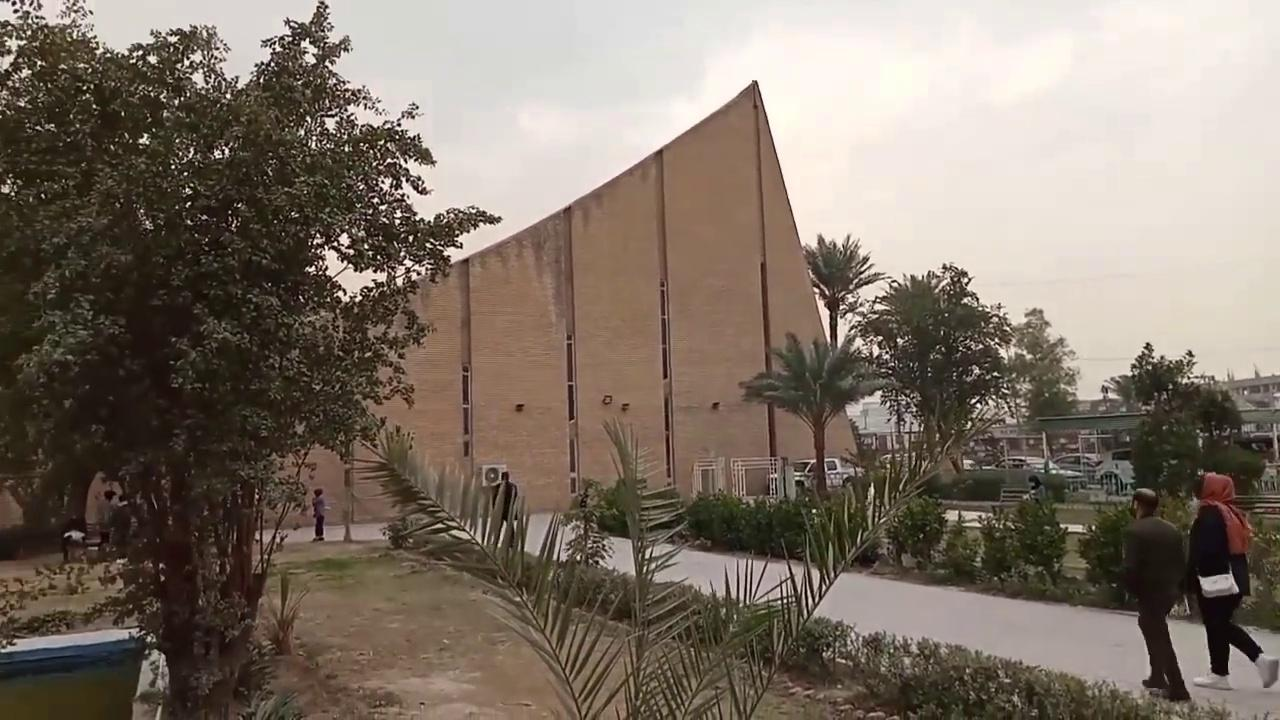car: (984, 455, 1086, 490), (1051, 452, 1136, 491), (789, 456, 866, 491)
person: (1185, 471, 1279, 690), (1120, 487, 1191, 702), (95, 489, 117, 550), (310, 487, 326, 541), (1024, 474, 1045, 503)
tree: (0, 0, 501, 717), (852, 261, 1018, 480), (1113, 340, 1266, 505), (737, 329, 882, 499), (800, 231, 885, 349), (1002, 305, 1080, 427), (1182, 382, 1265, 495), (1076, 500, 1137, 606), (1008, 495, 1068, 588), (1126, 340, 1197, 409)
